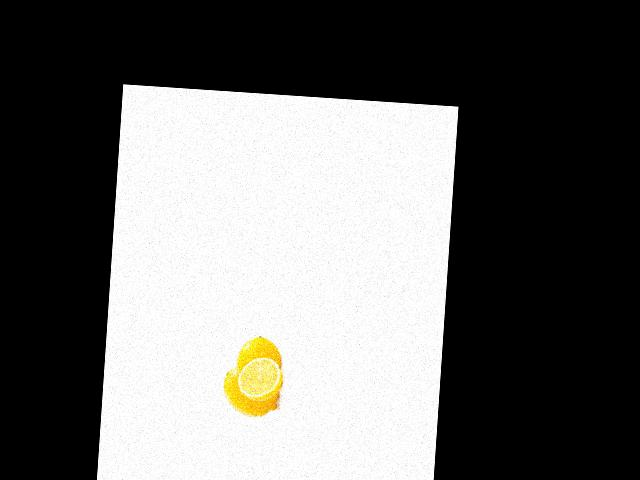lemon: (233, 335, 284, 389)
